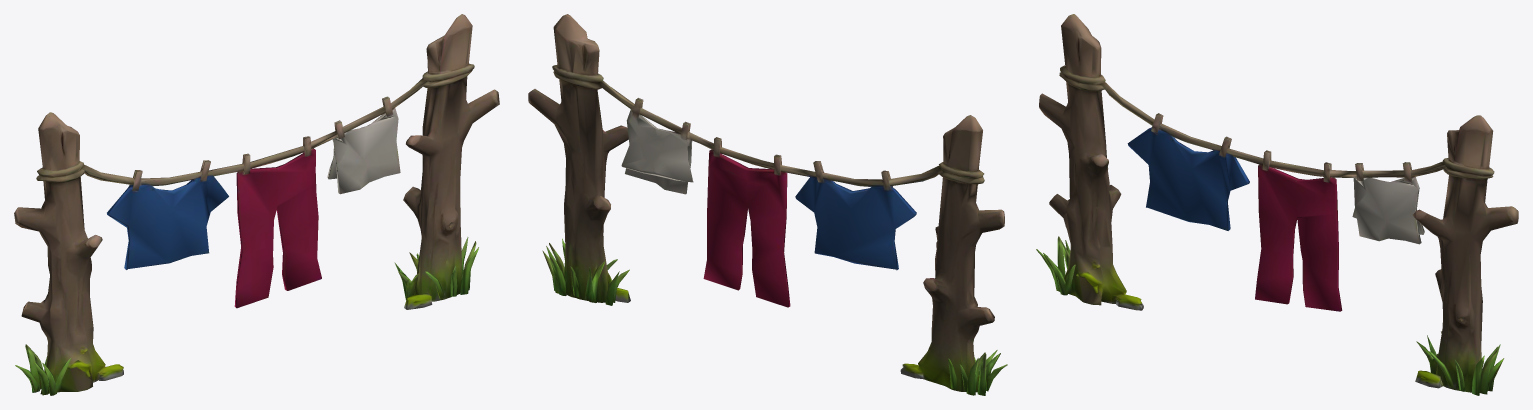
File: washing-line.glb
3 renders of one model, left to right at view 1: azimuth 30°, elevation 25°; view 2: azimuth 150°, elevation 25°; view 3: azimuth 330°, elevation 25°, orthographic.
Parts seen in each view (by area): view 1: node_0; view 2: node_0; view 3: node_0.
Boxes of the visible parts, box(x1,y1,x2,y2) form: node_0: box(14, 14, 499, 395); node_0: box(528, 14, 1007, 395); node_0: box(1036, 14, 1518, 395).
Bounding box in the file's own units: 4 × 2.2 × 0.2994.
Materials: 1 (1 with a texture image).
